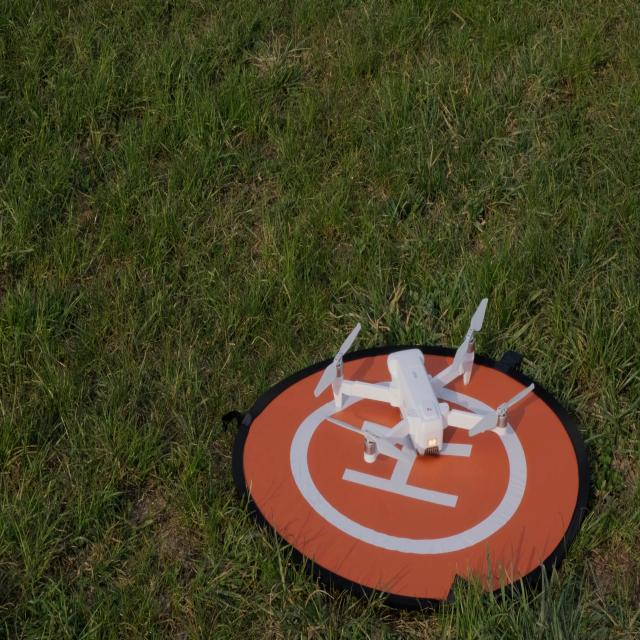drone: (314, 296, 534, 464)
